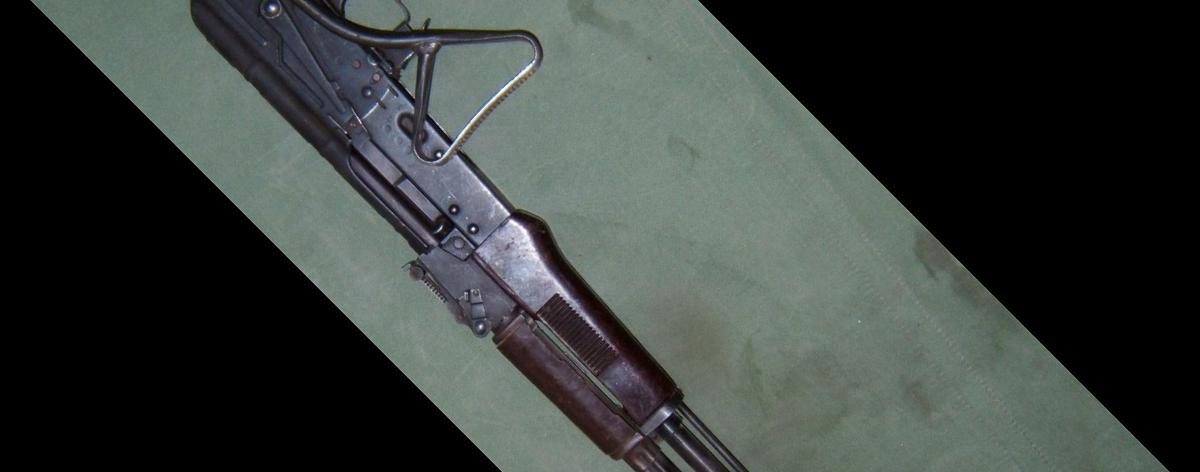larga: (192, 0, 750, 472)
